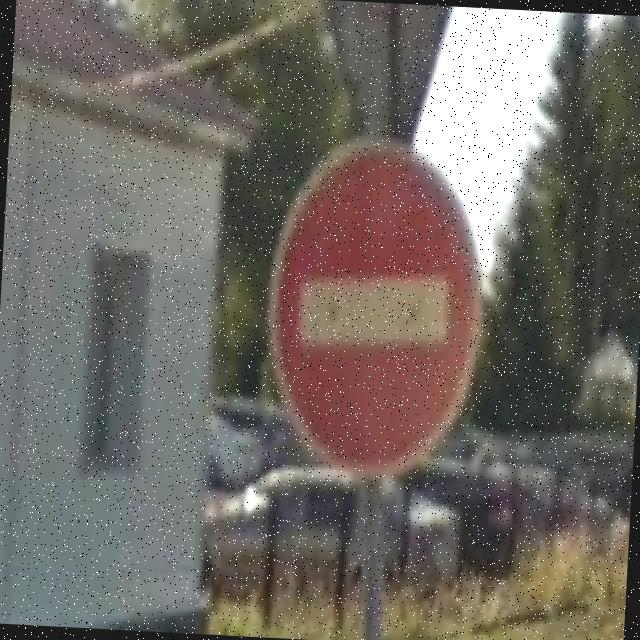Zakaz wjazdu: (258, 132, 493, 484)
